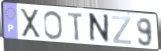9: (136, 17, 154, 47)
N: (89, 12, 111, 45)
O: (43, 10, 64, 41)
T: (66, 12, 84, 43)
X: (18, 8, 42, 39)
Z: (111, 15, 133, 46)
